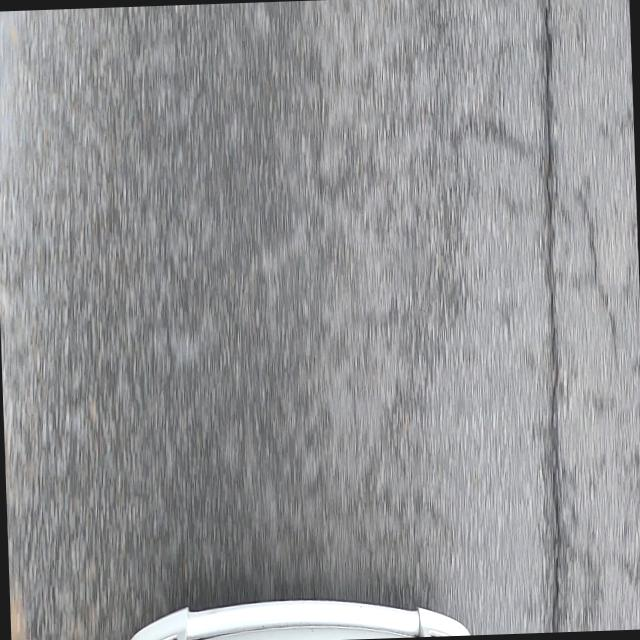Retak-Memanjang: (538, 0, 562, 632)
